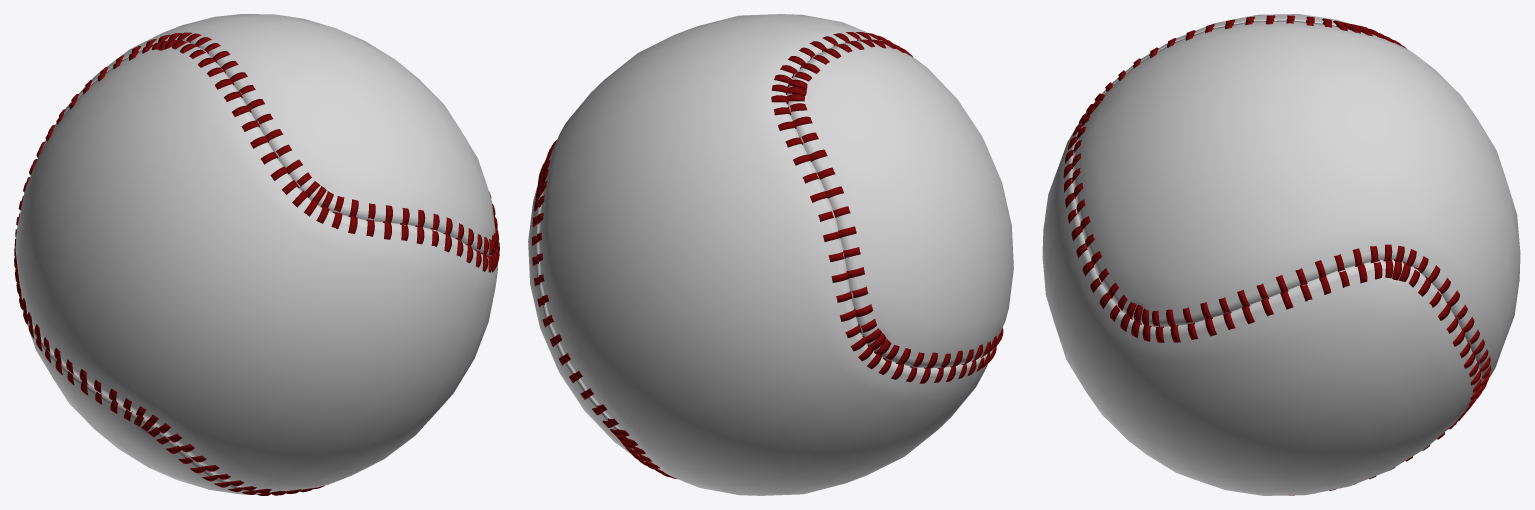
The model's file is baseball.glb.
3 views of the same model, side by side, from view 1: azimuth 30°, elevation 25°; view 2: azimuth 150°, elevation 25°; view 3: azimuth 270°, elevation 25° (orthographic).
Visible parts, largest first — view 1: Cube.002; view 2: Cube.002; view 3: Cube.002.
Part boxes in pixels (left/top/right/bottom): Cube.002: left=14, top=14, right=499, bottom=495; Cube.002: left=528, top=14, right=1013, bottom=495; Cube.002: left=1042, top=14, right=1520, bottom=495.
Bounding box in the file's own units: 1.96 × 1.96 × 1.94.
